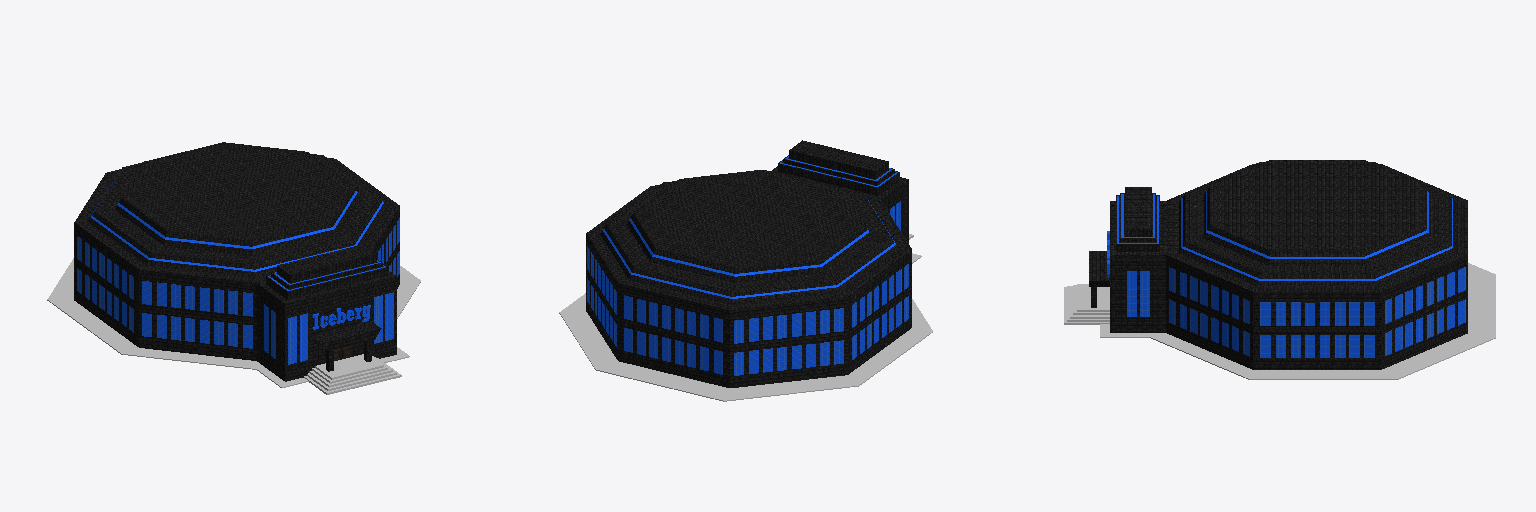
The picture shows the model from 3 angles: view 1: azimuth 30°, elevation 25°; view 2: azimuth 150°, elevation 25°; view 3: azimuth 270°, elevation 25°; orthographic projection.
Visible parts, largest first — view 1: Iceberg_Lounge; view 2: Iceberg_Lounge; view 3: Iceberg_Lounge.
Boxes of the visible parts, x1,y1,x2,y2 form: Iceberg_Lounge: [47, 142, 420, 394]; Iceberg_Lounge: [559, 140, 932, 401]; Iceberg_Lounge: [1064, 160, 1495, 379].
Size of the model in its own units: 32.11 by 10.44 by 40.16.
Materials: 12 (10 with a texture image).